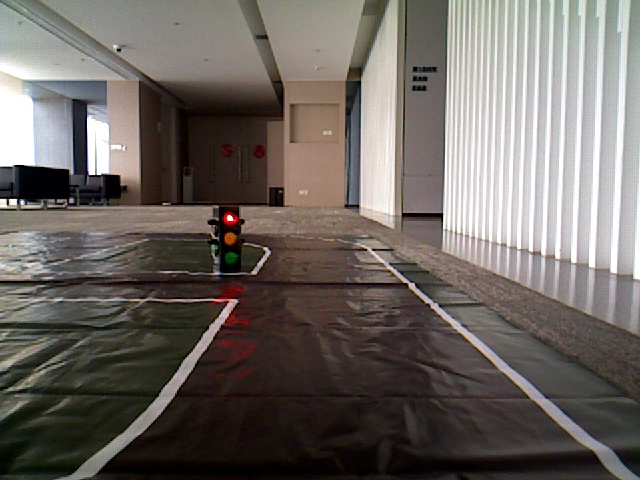red: (218, 210, 241, 266)
